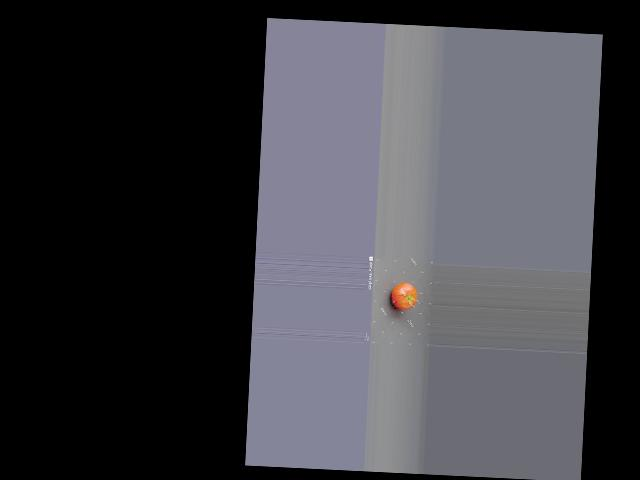tomato: (391, 282, 417, 310)
